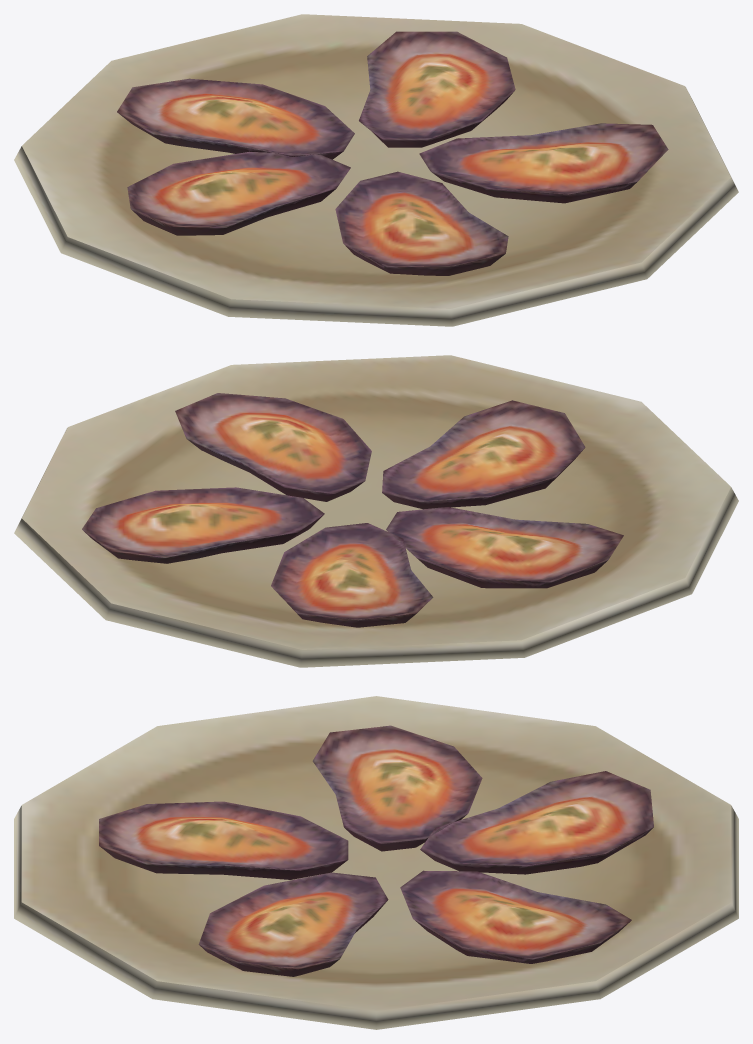
Rendered from Oyster_Dish.fbx.
3 renders of one model, top to bottom at view 1: azimuth 30°, elevation 25°; view 2: azimuth 150°, elevation 25°; view 3: azimuth 270°, elevation 25°, orthographic. The views are drawn at different scales.
Visible parts, largest first — view 1: Oyster_Dish; view 2: Oyster_Dish; view 3: Oyster_Dish.
Boxes of the visible parts, x1,y1,x2,y2 form: Oyster_Dish: (14,14,738,326); Oyster_Dish: (14,355,738,667); Oyster_Dish: (14,696,738,1029).
Size of the model in its own units: 0.6242 by 0.0494 by 0.5936.
